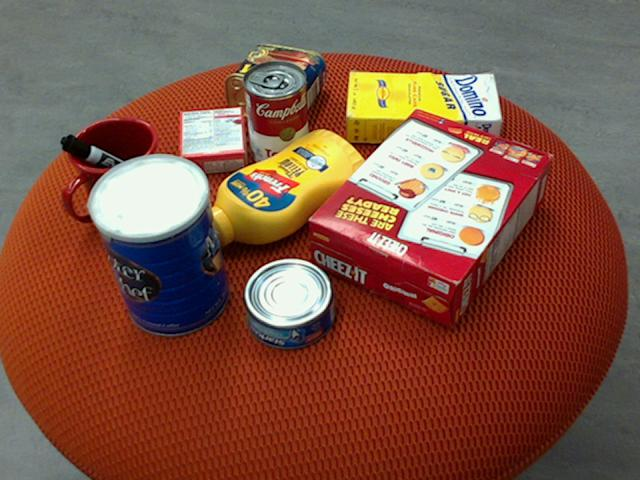cracker_box: (308, 107, 554, 325)
gelatin_box: (178, 104, 246, 175)
large_marker: (59, 134, 162, 194)
master_chef_can: (84, 154, 229, 336)
mug: (64, 116, 166, 224)
mustard_bottle: (191, 128, 370, 245)
potted_meat_can: (225, 43, 326, 124)
sugar_box: (346, 72, 503, 143)
tomato_soup_can: (243, 59, 308, 169)
tuna_fish_can: (244, 258, 336, 350)
